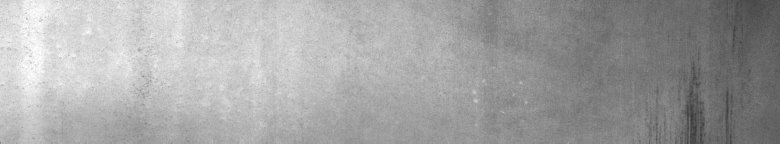ka: (647, 24, 751, 136)
